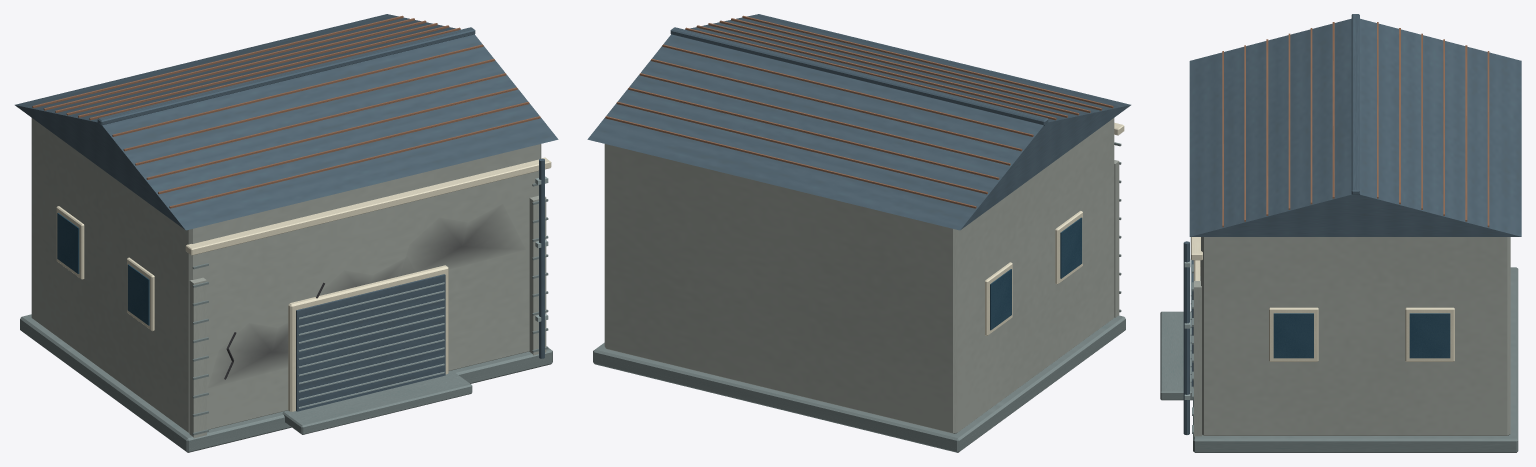
File: warehouse-scorched.glb
The picture shows the model from 3 angles, left to right: view 1: azimuth 30°, elevation 25°; view 2: azimuth 150°, elevation 25°; view 3: azimuth 270°, elevation 25°; orthographic projection. The views are drawn at different scales.
Visible parts, largest first — view 1: warehouse-scorched; view 2: warehouse-scorched; view 3: warehouse-scorched.
Boxes of the visible parts, x1=… form: warehouse-scorched: x1=15, y1=14, x2=558, y2=452; warehouse-scorched: x1=587, y1=14, x2=1130, y2=452; warehouse-scorched: x1=1160, y1=14, x2=1521, y2=452.
Bounding box in the file's own units: 7.44 × 5.2 × 6.43.
3 materials, 3 textured.
